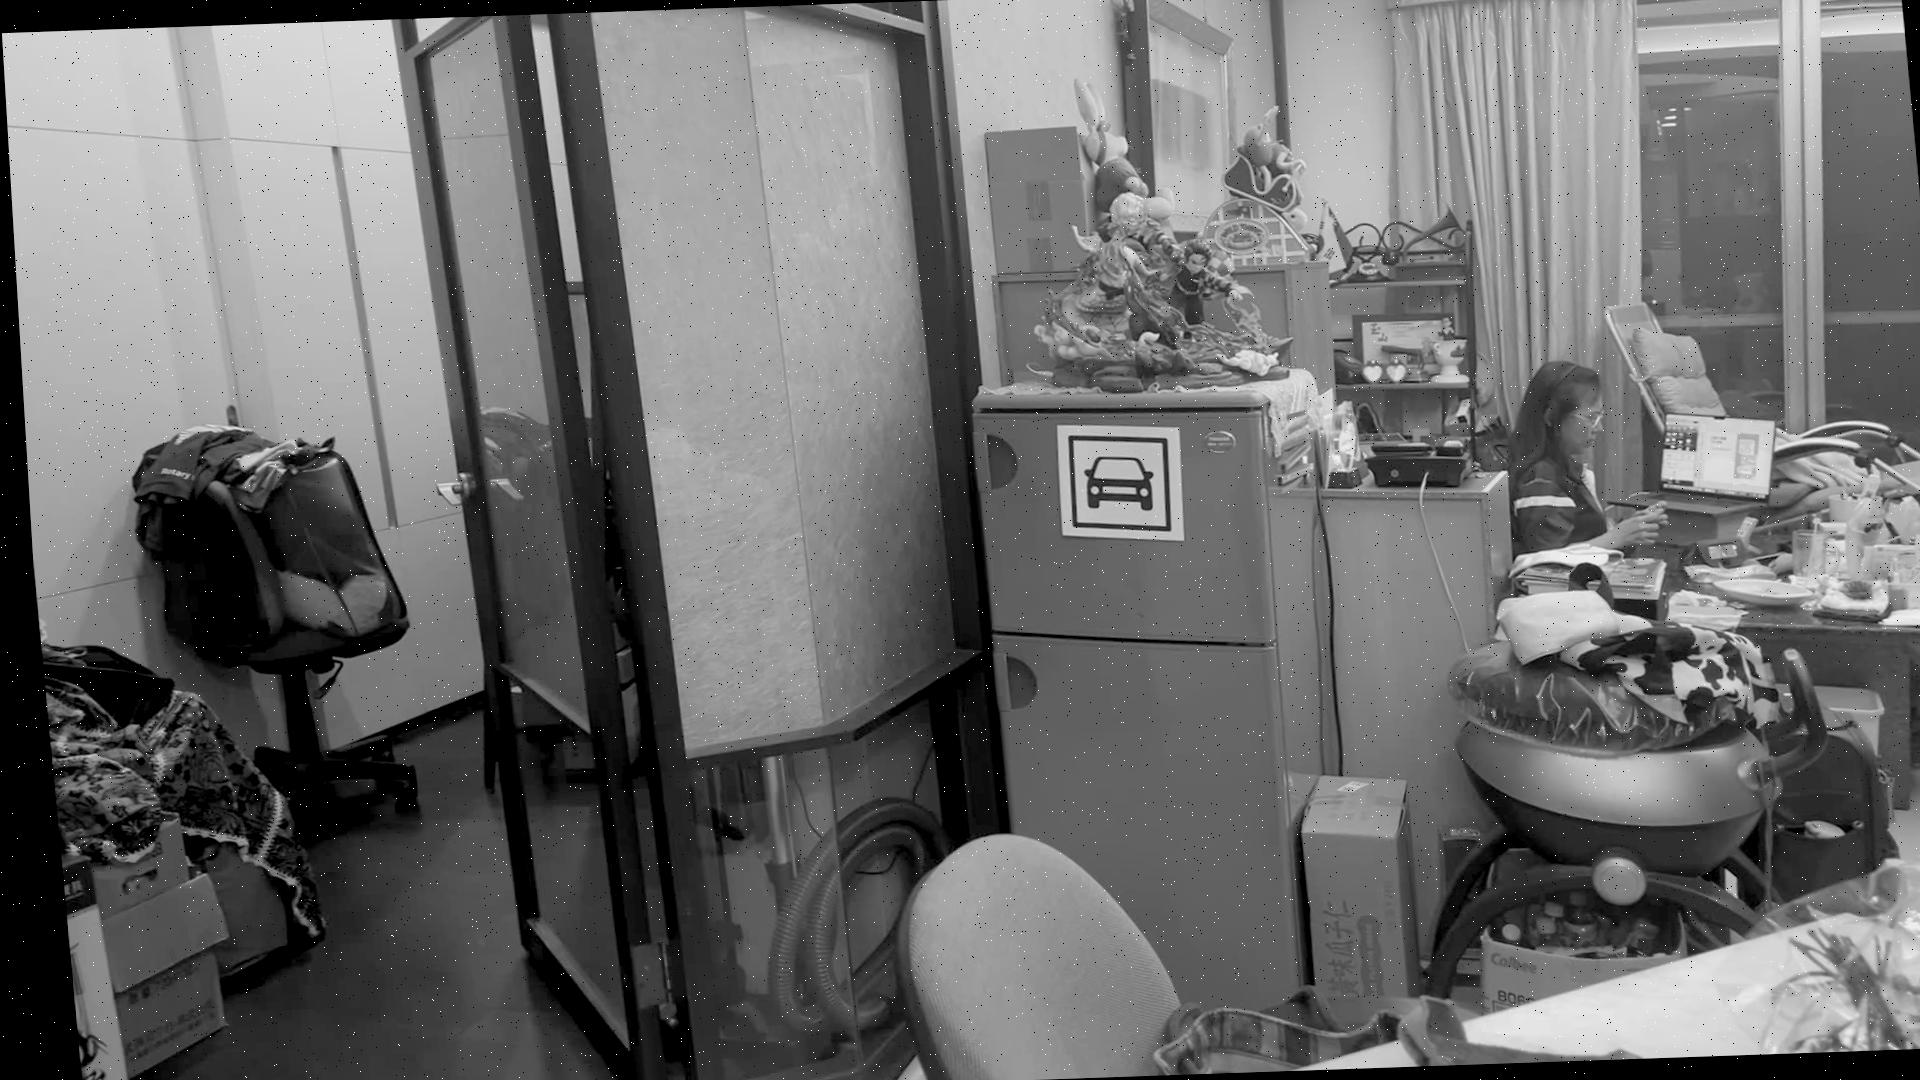car_img: (1058, 429, 1172, 538)
